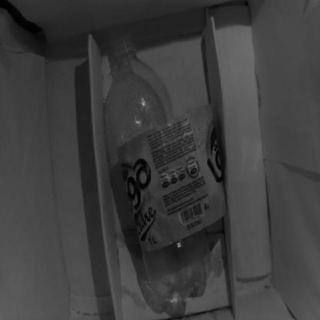plastic_bottles: (98, 25, 212, 315)
